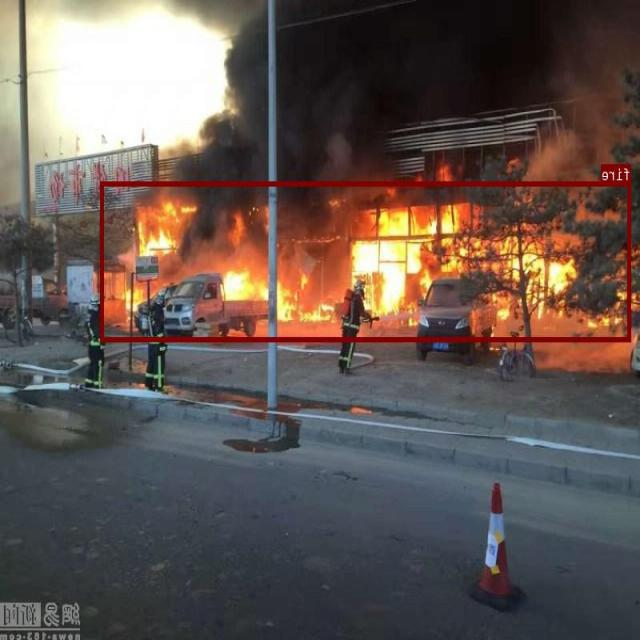fire: (101, 181, 631, 341)
